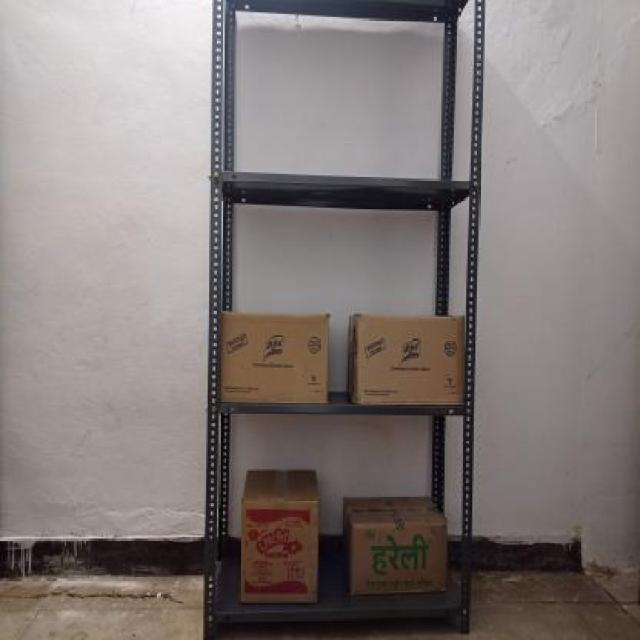box: (351, 312, 467, 411), (215, 310, 332, 406), (241, 502, 321, 600), (348, 522, 448, 596)
